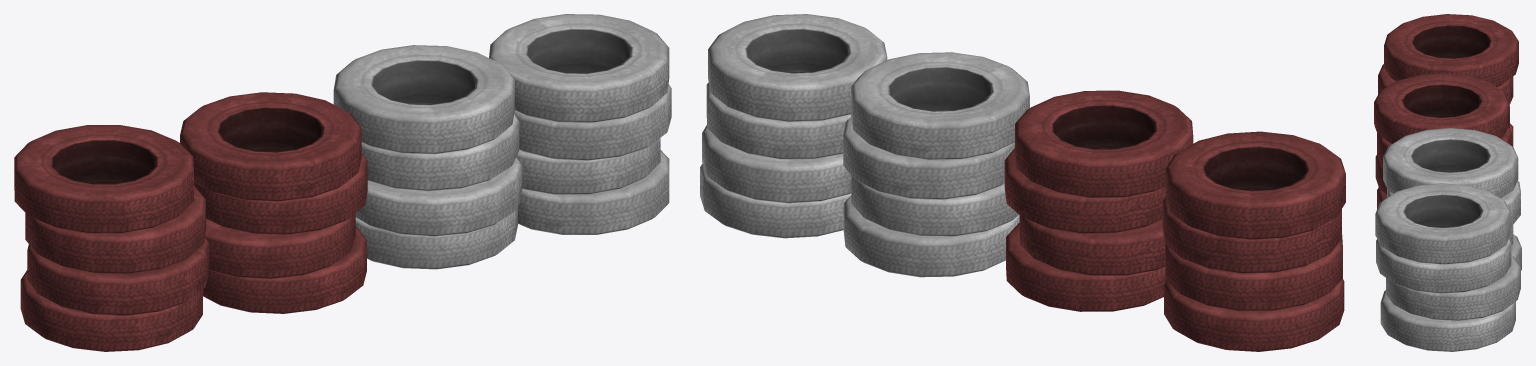
The model's file is race_track_tire_wall.glb.
The picture shows the model from 3 angles, left to right: view 1: azimuth 30°, elevation 25°; view 2: azimuth 150°, elevation 25°; view 3: azimuth 270°, elevation 25°; orthographic projection. The views are drawn at different scales.
Visible parts, largest first — view 1: Tyrewall-material; view 2: Tyrewall-material; view 3: Tyrewall-material.
Boxes of the visible parts, bbox=[...] form: Tyrewall-material: bbox=[14, 14, 671, 351]; Tyrewall-material: bbox=[700, 14, 1345, 351]; Tyrewall-material: bbox=[1374, 14, 1521, 351].
Size of the model in its own units: 4.03 by 0.9715 by 1.1.
1 material, 1 textured.
